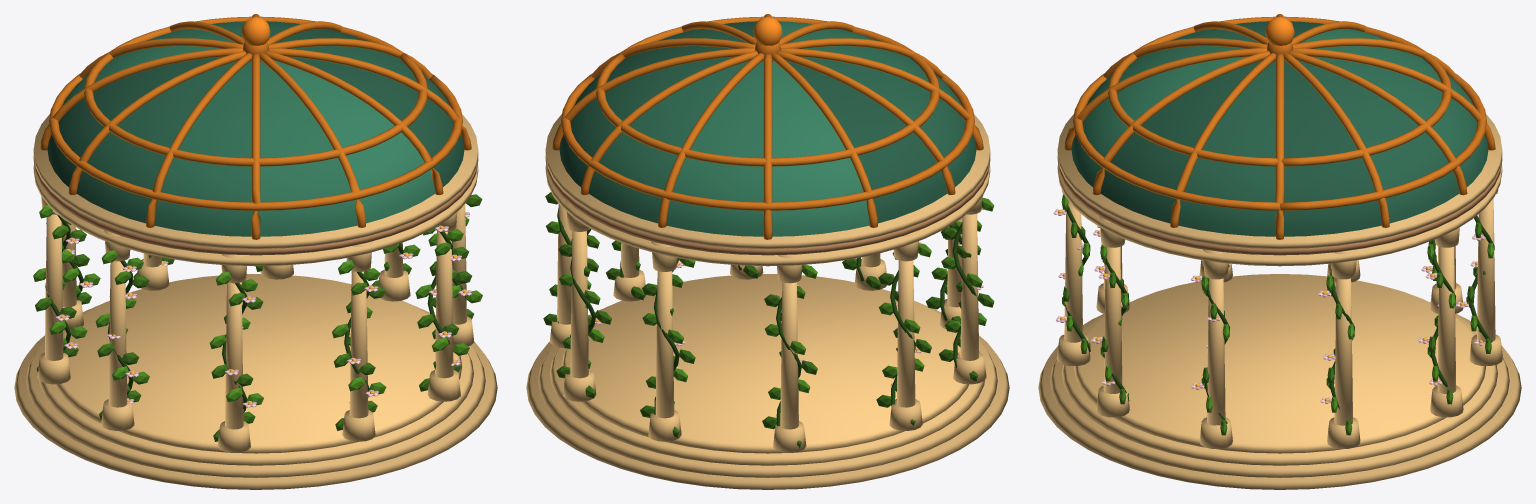
File: gazebo-B-sjz4pd.glb
3 views of the same model, side by side, from view 1: azimuth 30°, elevation 25°; view 2: azimuth 150°, elevation 25°; view 3: azimuth 270°, elevation 25° (orthographic).
Visible parts, largest first — view 1: gazebo, gazebo-platform, gazebo-columns; view 2: gazebo, gazebo-platform, gazebo-columns; view 3: gazebo, gazebo-platform, gazebo-columns.
Part boxes in pixels (<box>): gazebo: <box>33,14,482,441</box>; gazebo-platform: <box>14,274,497,489</box>; gazebo-columns: <box>37,197,474,452</box>; gazebo: <box>543,14,994,448</box>; gazebo-platform: <box>526,274,1009,489</box>; gazebo-columns: <box>549,197,986,452</box>; gazebo: <box>1053,14,1502,435</box>; gazebo-platform: <box>1038,274,1521,489</box>; gazebo-columns: <box>1057,189,1502,448</box>.
Bounding box in the file's own units: 5.5 × 4.65 × 5.5.
